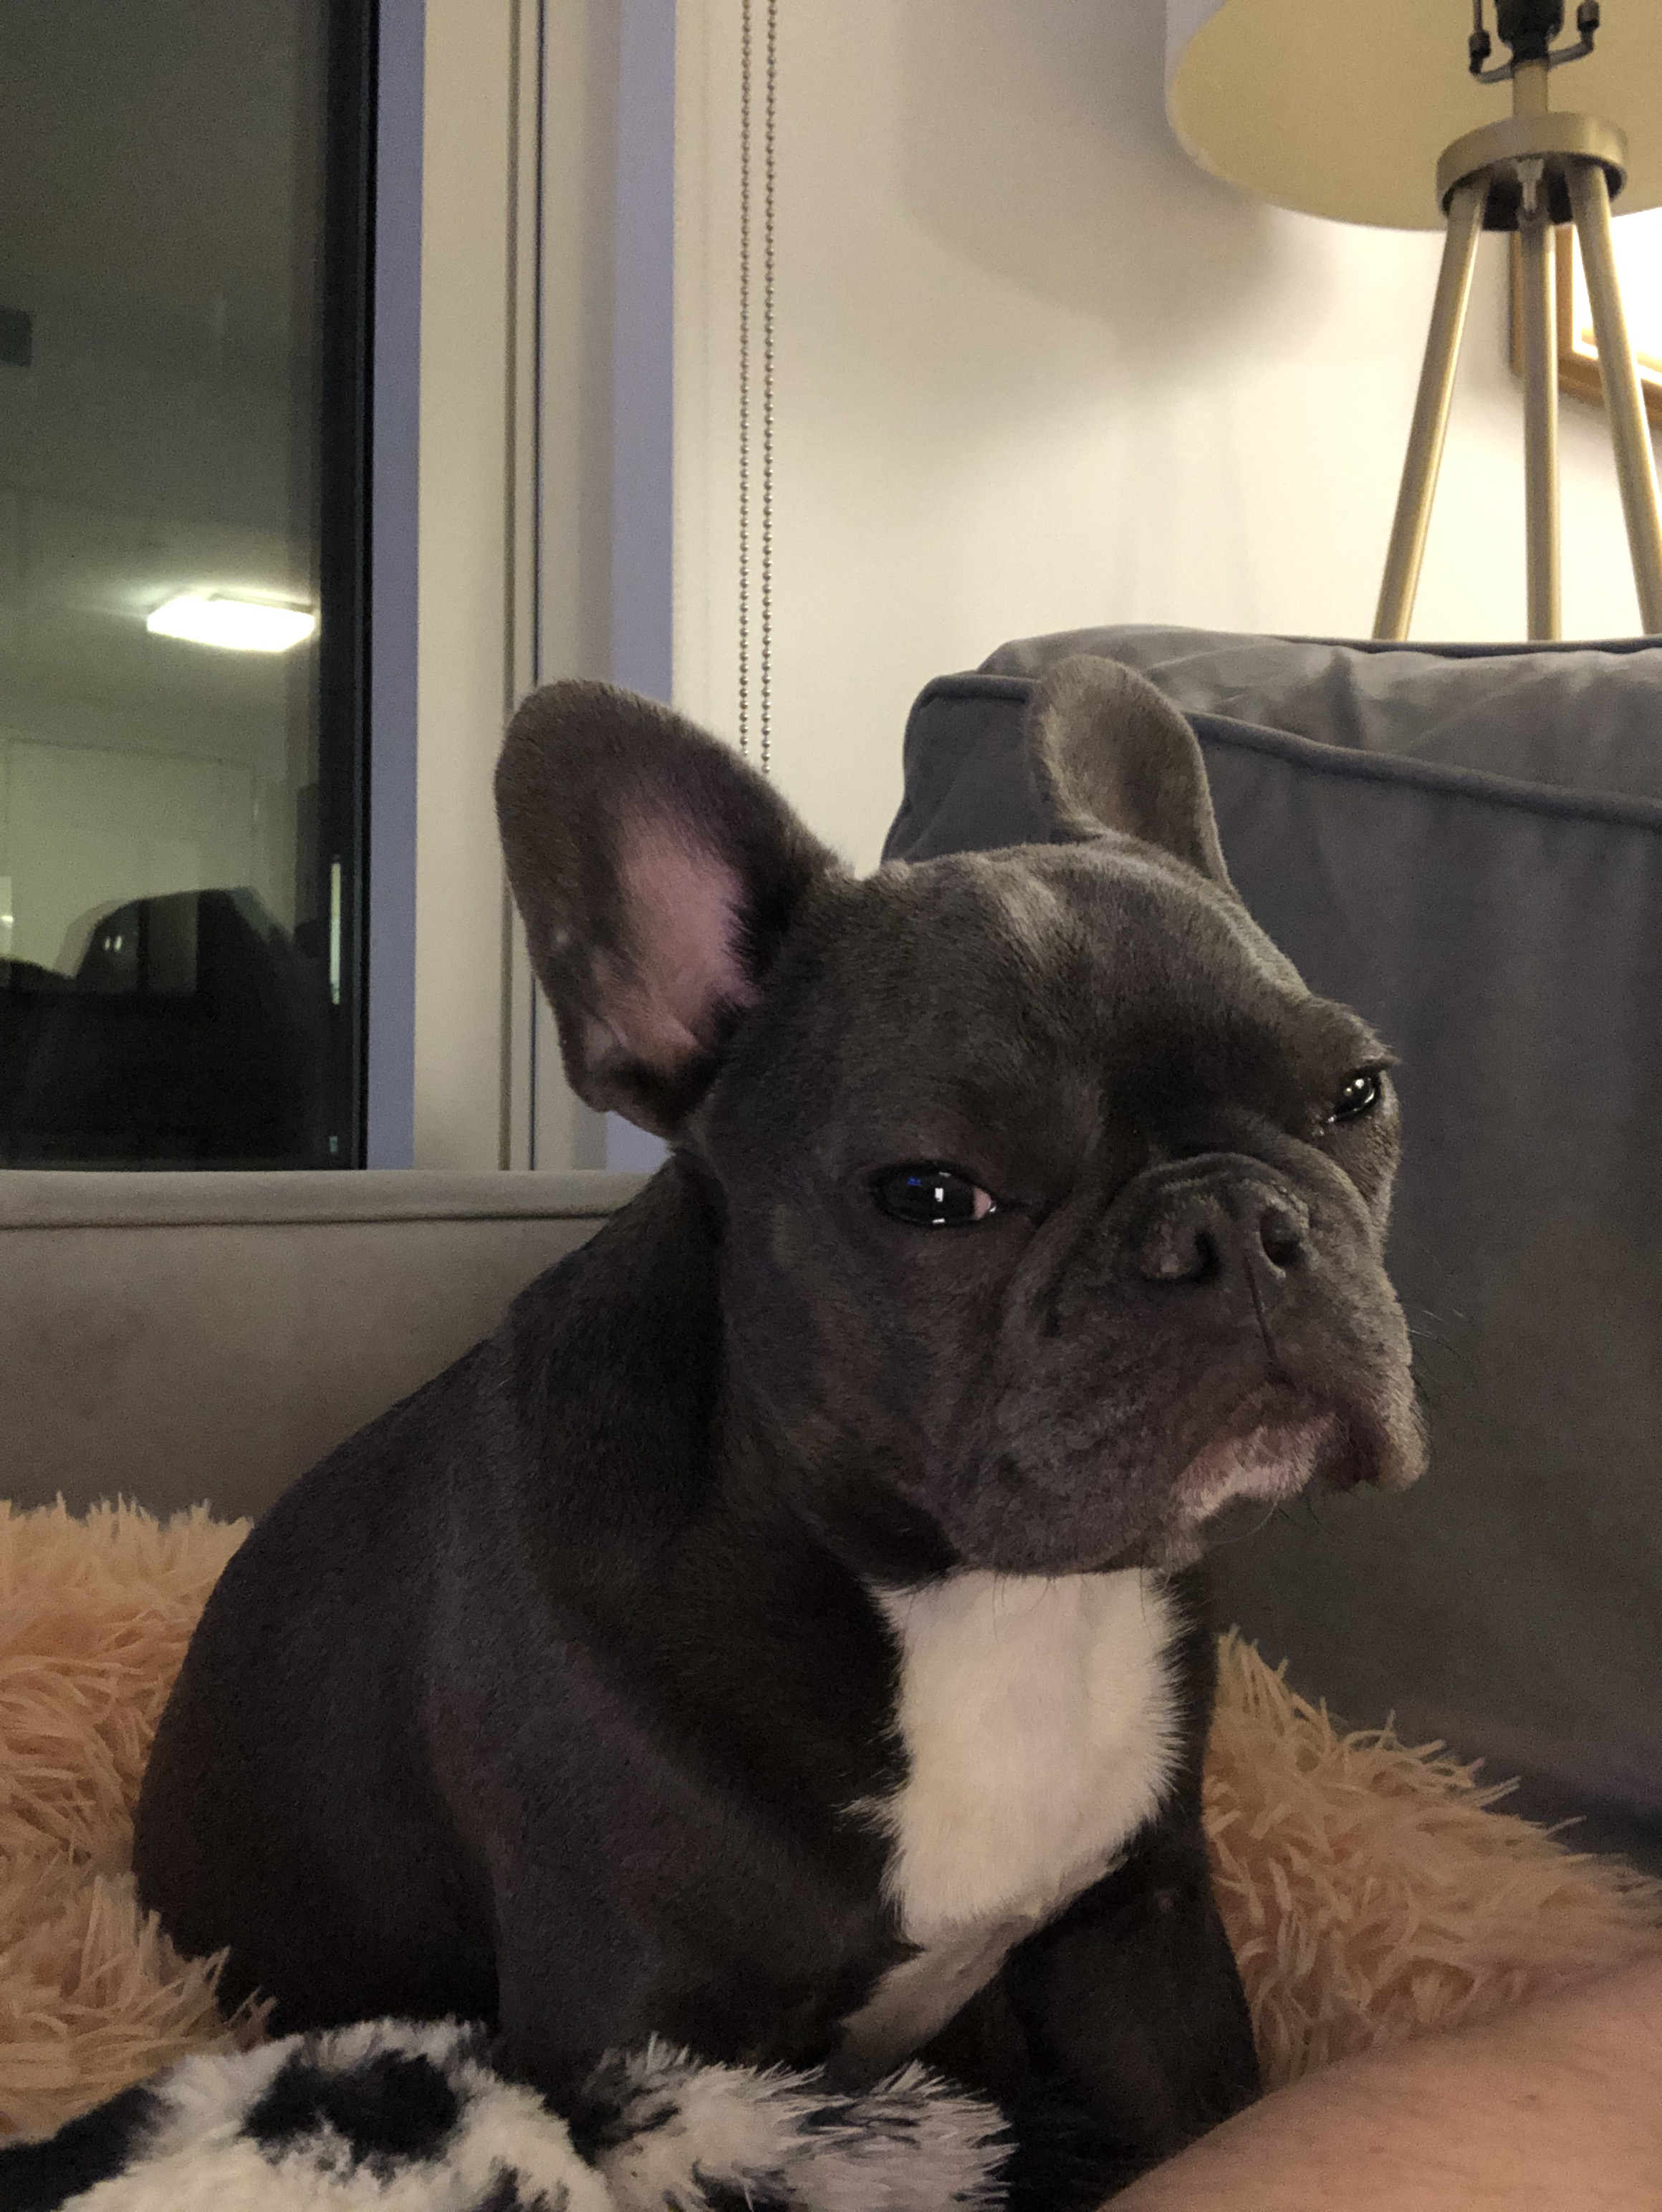lucy: (134, 641, 1430, 2032)
